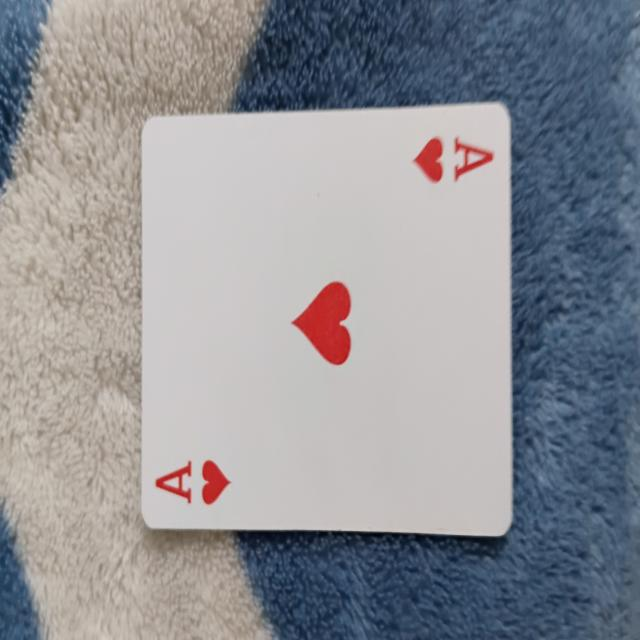AH: (137, 112, 522, 550)
